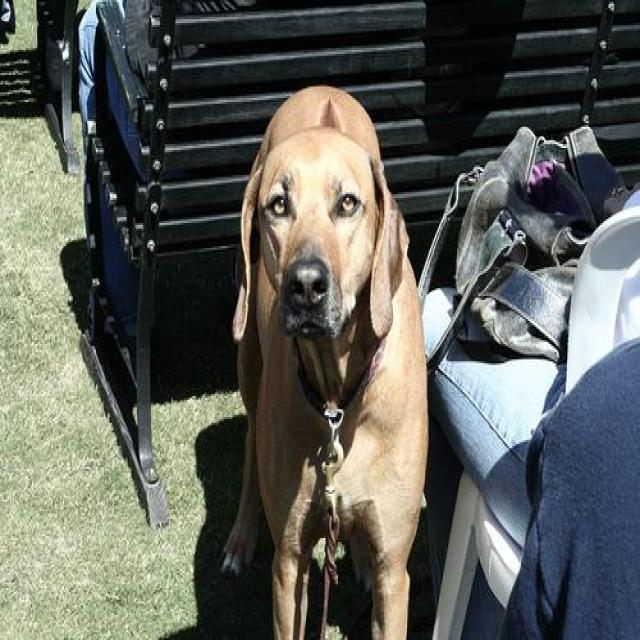rhodesian_ridgeback: (222, 79, 430, 636)
